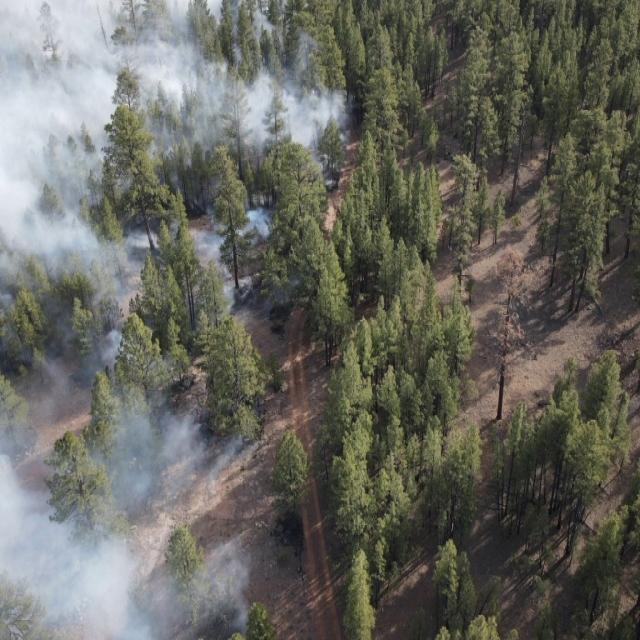fire: (154, 383, 170, 397)
smoke: (0, 0, 348, 176), (0, 411, 129, 640), (0, 176, 135, 316), (130, 355, 243, 487), (129, 530, 250, 640), (0, 315, 130, 410), (134, 202, 283, 272), (219, 272, 302, 326), (128, 487, 222, 519)
